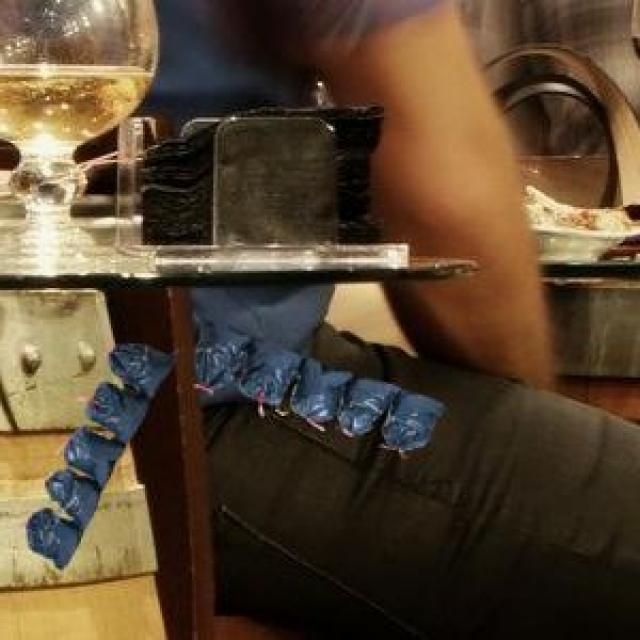Trashbag: (294, 358, 358, 422), (189, 323, 250, 389), (340, 376, 401, 438), (387, 392, 444, 455), (244, 340, 299, 404), (28, 507, 80, 571), (69, 426, 124, 485), (117, 337, 171, 397), (93, 381, 145, 441), (55, 472, 101, 520)
